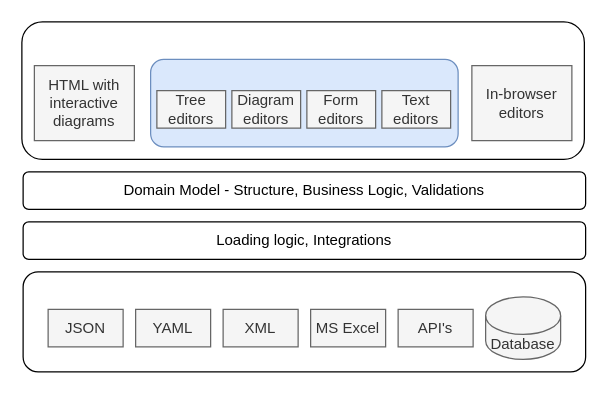
This 608x394 diagram has some shape labels left out. The box of each missing label's shape, as (x1, y1, x2, y2) in pixels:
Eclipse: (149, 58, 458, 147)
Representations: (21, 21, 584, 159)
Resources: (22, 271, 586, 372)
